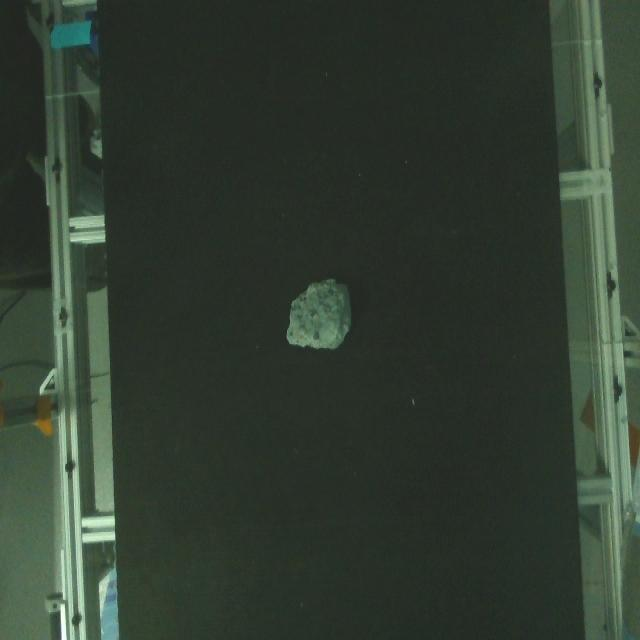non-paper: (272, 272, 363, 372)
